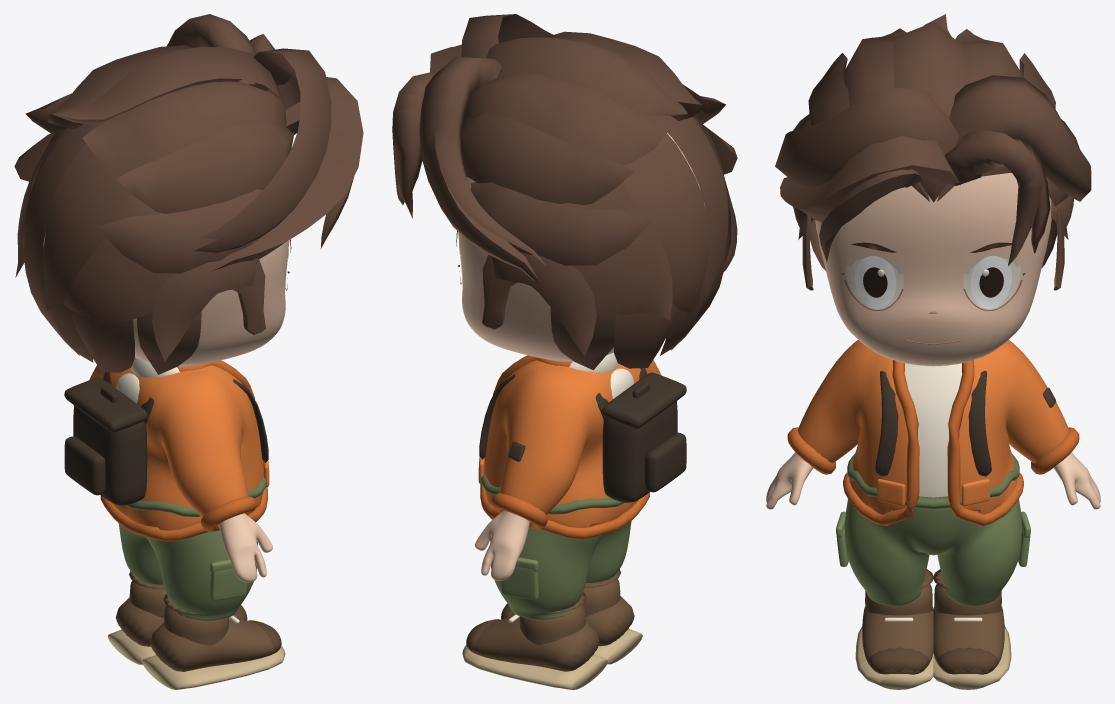
Rendered from character_chibi_b_face_v2_backup.glb.
The picture shows the model from 3 angles, left to right: view 1: azimuth 30°, elevation 25°; view 2: azimuth 150°, elevation 25°; view 3: azimuth 270°, elevation 25°; orthographic projection.
Parts seen in each view (by area): view 1: SM_Hair_Base_03_L, SM_Hair_Bangs_08_L, jacket, backpack, Chibi_Base_Mesh2, boots, pants, soles, jacket_trim, cargo_pockets, jacket_cuffs, hood (+1 smaller); view 2: SM_Hair_Base_03_L, jacket, SM_Hair_Bangs_08_L, backpack, Chibi_Base_Mesh2, boots, pants, soles, jacket_trim, cargo_pockets, jacket_cuffs, hood (+1 smaller); view 3: SM_Hair_Bangs_08_L, Chibi_Base_Mesh2, jacket, SM_Hair_Base_03_L, pants, boots, jacket_trim, inner_hoodie, backpack, soles, boot_toecaps, eye_iris (+6 smaller).
Part boxes in pixels (x1,y1,x2,y2): SM_Hair_Base_03_L: (14,45,294,374); SM_Hair_Bangs_08_L: (167,14,363,272); jacket: (89,365,263,530); backpack: (64,372,268,505); Chibi_Base_Mesh2: (43,232,289,582); boots: (115,571,279,671); pants: (118,523,257,620); soles: (107,620,285,689); jacket_trim: (100,360,267,541); cargo_pockets: (210,559,246,601); jacket_cuffs: (201,496,256,531); hood: (116,357,179,403); SM_Hair_Base_03_L: (460,31,737,370); jacket: (484,360,661,527); SM_Hair_Bangs_08_L: (392,14,553,283); backpack: (479,368,686,502); Chibi_Base_Mesh2: (458,133,705,580); boots: (468,569,634,671); pants: (490,521,631,619); soles: (462,619,642,689); jacket_trim: (480,355,649,539); cargo_pockets: (501,557,538,599); jacket_cuffs: (491,493,547,529); hood: (569,352,633,398); SM_Hair_Bangs_08_L: (775,75,1091,265); Chibi_Base_Mesh2: (766,173,1100,509); jacket: (798,340,1068,514); SM_Hair_Base_03_L: (792,14,1079,290); pants: (844,499,1022,606); boots: (862,569,1004,674); jacket_trim: (843,360,1023,525); inner_hoodie: (904,363,962,497); backpack: (875,370,991,476); soles: (855,626,1011,689); boot_toecaps: (868,647,998,673); eye_iris: (855,256,1011,308).
Size of the model in its own units: 0.5754 by 1.16 by 0.5713.
